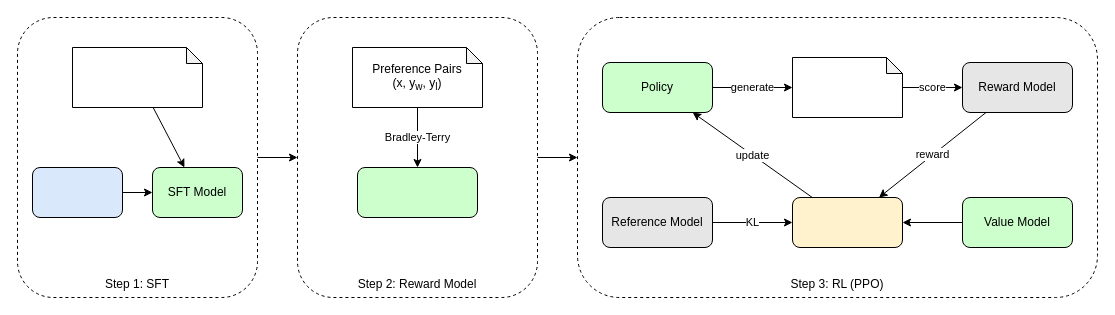
Some shapes in this 1115 by 315 pixel diagram are drawn without their labels. Each missing label, with the centre of its shape:
Base Model: the point at 77,192
Demonstrations: the point at 137,77
PPO Update: the point at 847,222
Responses: the point at 847,87
Reward Model r(x, y): the point at 417,192
